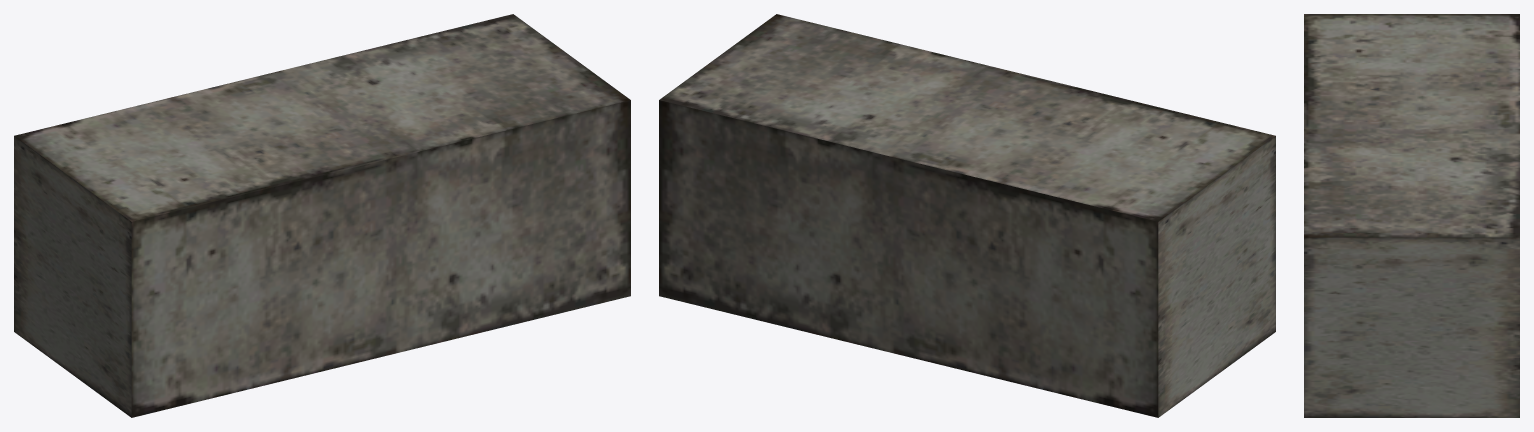
Rendered from ind_ext_brick_wall_a_single_brick.glb.
3 views of the same model, side by side, from view 1: azimuth 30°, elevation 25°; view 2: azimuth 150°, elevation 25°; view 3: azimuth 270°, elevation 25° (orthographic). The views are drawn at different scales.
Visible parts, largest first — view 1: g_brick; view 2: g_brick; view 3: g_brick.
Boxes of the visible parts, bbox=[...] form: g_brick: bbox=[14, 14, 630, 417]; g_brick: bbox=[659, 14, 1275, 417]; g_brick: bbox=[1304, 14, 1519, 417].
Bounding box in the file's own units: 0.6124 × 0.2299 × 0.2498.
Materials: 1 (1 with a texture image).
